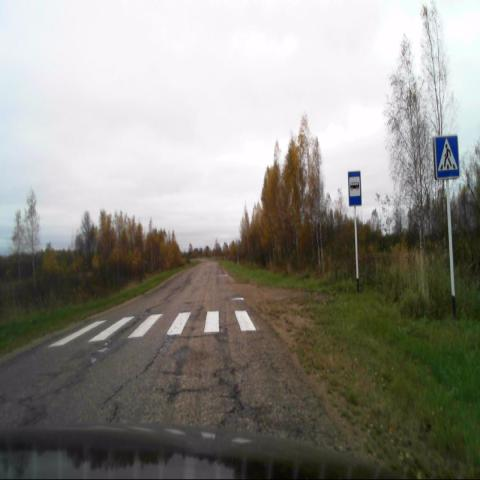5_16: (348, 171, 362, 206)
5_19_1: (433, 135, 460, 180)
